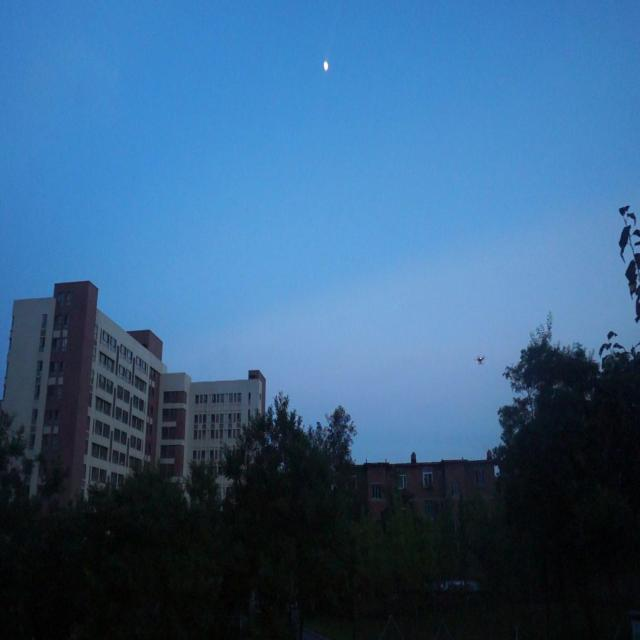drone: (474, 353, 485, 369)
